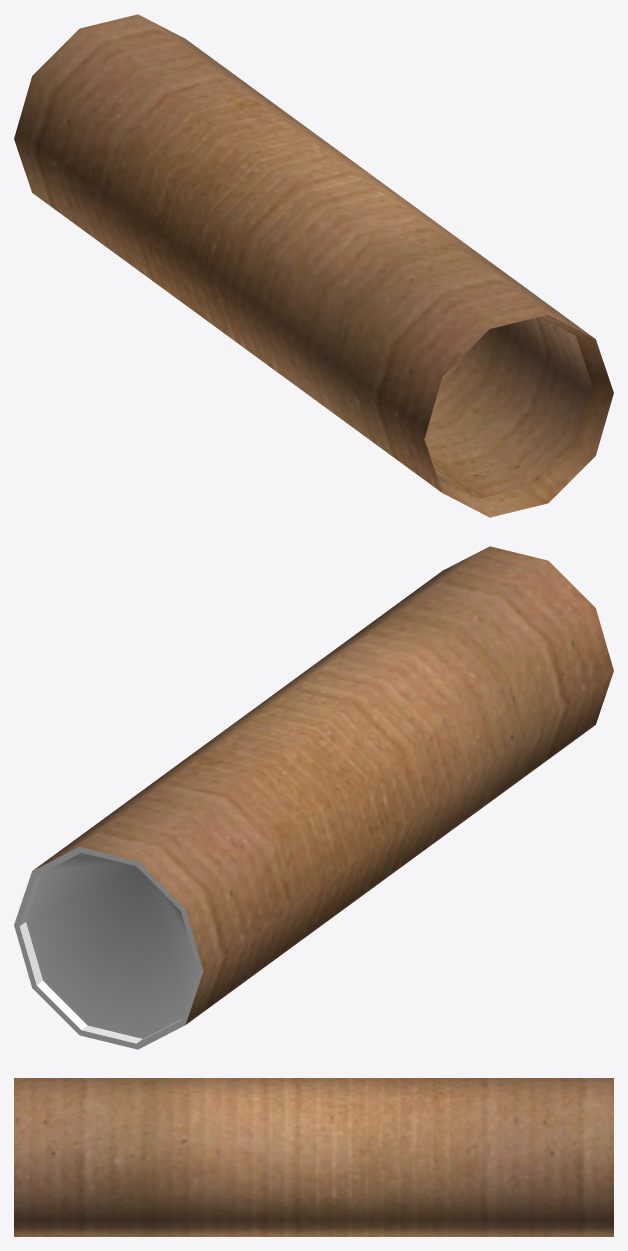
The model's file is Paper_Tube_Bulk_Plain.fbx.
3 renders of one model, top to bottom at view 1: azimuth 30°, elevation 25°; view 2: azimuth 150°, elevation 25°; view 3: azimuth 270°, elevation 25°, orthographic. The views are drawn at different scales.
Visible parts, largest first — view 1: polySurface130; view 2: polySurface130; view 3: polySurface130.
Part boxes in pixels (box(x1,y1,x2,y2)): polySurface130: box(14, 14, 613, 517); polySurface130: box(14, 546, 613, 1049); polySurface130: box(14, 1078, 613, 1236).
Bounding box in the file's own units: 8.44 × 8.03 × 31.66.
